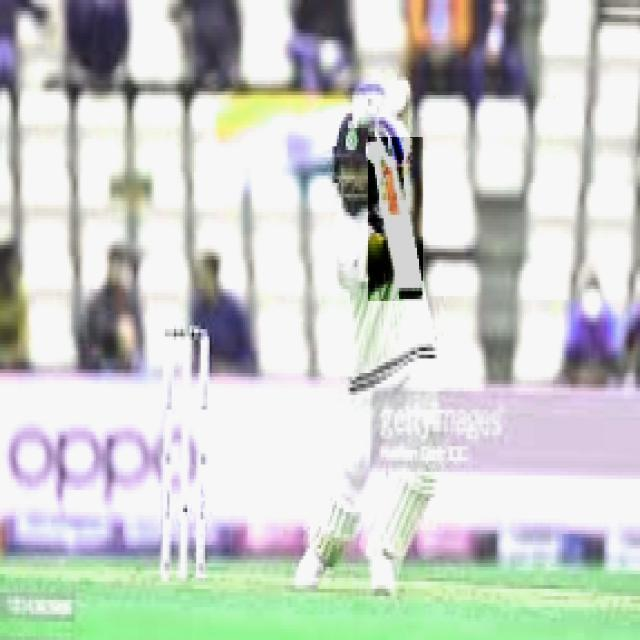bat: (370, 133, 425, 301)
toe: (397, 281, 428, 302)
